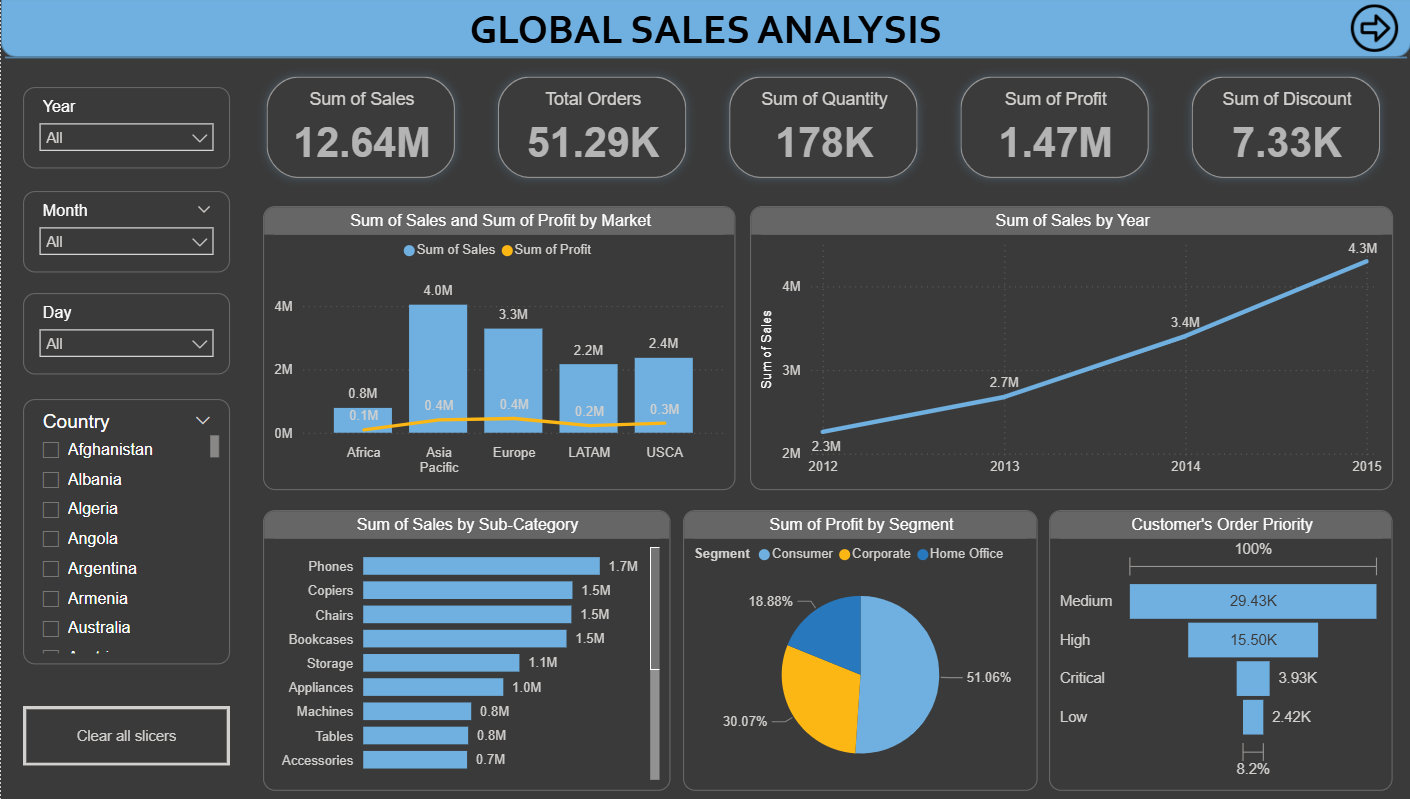

What the dashboard file says about the page in this screenshot:
{"tool":"powerbi","page":{"name":"Page 1","canvas":[1280,730],"ordinal":0},"visuals":[{"type":"pieChart","fields":{"Category":["Orders.Segment"],"Y":["Sum(Orders.Profit)"]},"box":[619.2,465.8,322.3,255.1],"z":0},{"type":"lineStackedColumnComboChart","fields":{"Category":["Orders.Market"],"Y":["Sum(Orders.Sales)"],"Y2":["Sum(Orders.Profit)"]},"box":[237.9,189.8,429.5,257.9],"z":1000},{"type":"textbox","box":[0,0,1280.2,54.5],"z":2000},{"type":"shape","box":[3.5,47,1273.3,15.1],"z":3000},{"type":"actionButton","box":[20,643.7,187.9,54.5],"z":4000},{"type":"clusteredBarChart","fields":{"Category":["Orders.Sub-Category"],"Y":["Sum(Orders.Sales)"]},"box":[237.9,465.8,369.5,255.1],"z":5000},{"type":"cardVisual","fields":{"Data":["Sum(Orders.Sales)","CountNonNull(Orders.Order ID)","Sum(Orders.Quantity)","Sum(Orders.Profit)","Sum(Orders.Discount)"]},"box":[225.2,56.3,1046.9,124.4],"z":6000},{"type":"lineChart","fields":{"Category":["Orders.Order Date.Variation.Date Hierarchy.Year"],"Y":["Sum(Orders.Sales)"]},"box":[680.1,189.8,583.8,257.9],"z":7000},{"type":"slicer","fields":{"Values":["Orders.Order Date.Variation.Date Hierarchy.Year"]},"box":[20,81.7,187.9,74.5],"z":8000},{"type":"slicer","fields":{"Values":["Orders.Ship Date.Variation.Date Hierarchy.Month"]},"box":[20,176.1,187.9,74.5],"z":9000},{"type":"slicer","fields":{"Values":["Orders.Order Date.Variation.Date Hierarchy.Day"]},"box":[20,268.8,187.9,74.5],"z":10000},{"type":"funnel","title":"Customer''s Order Priority","fields":{"Category":["Orders.Order Priority"],"Y":["CountNonNull(Orders.Customer ID)"]},"box":[951.5,465.8,312.3,255.1],"z":11000},{"type":"shape","box":[0,0,1280.2,54.5],"z":12000},{"type":"textbox","box":[0,0.9,1280.2,61.7],"z":13000},{"type":"slicer","fields":{"Values":["Orders.Country"]},"box":[20,365,187.9,240.6],"z":14000},{"type":"image","box":[1217.6,1.8,59,52.7],"z":15000}]}

Visuals, with their boxes in screenshot pixels (x1, y1, x2, y2), scaled from the page's 1280x730 canvas onto the 1410x799 screenshot:
pieChart - Orders.Segment x Sum(Orders.Profit): Rect(682, 510, 1037, 789)
lineStackedColumnComboChart - Orders.Market x Sum(Orders.Sales): Rect(262, 208, 735, 490)
textbox: Rect(0, 0, 1409, 60)
shape: Rect(4, 51, 1406, 68)
actionButton: Rect(22, 705, 229, 764)
clusteredBarChart - Orders.Sub-Category x Sum(Orders.Sales): Rect(262, 510, 669, 789)
cardVisual - Sum(Orders.Sales) x CountNonNull(Orders.Order ID): Rect(248, 62, 1401, 198)
lineChart - Orders.Order Date.Variation.Date Hierarchy.Year x Sum(Orders.Sales): Rect(749, 208, 1392, 490)
slicer - Orders.Order Date.Variation.Date Hierarchy.Year: Rect(22, 89, 229, 171)
slicer - Orders.Ship Date.Variation.Date Hierarchy.Month: Rect(22, 193, 229, 274)
slicer - Orders.Order Date.Variation.Date Hierarchy.Day: Rect(22, 294, 229, 376)
"Customer''s Order Priority" funnel: Rect(1048, 510, 1392, 789)
shape: Rect(0, 0, 1409, 60)
textbox: Rect(0, 1, 1409, 69)
slicer - Orders.Country: Rect(22, 399, 229, 663)
image: Rect(1341, 2, 1406, 60)
